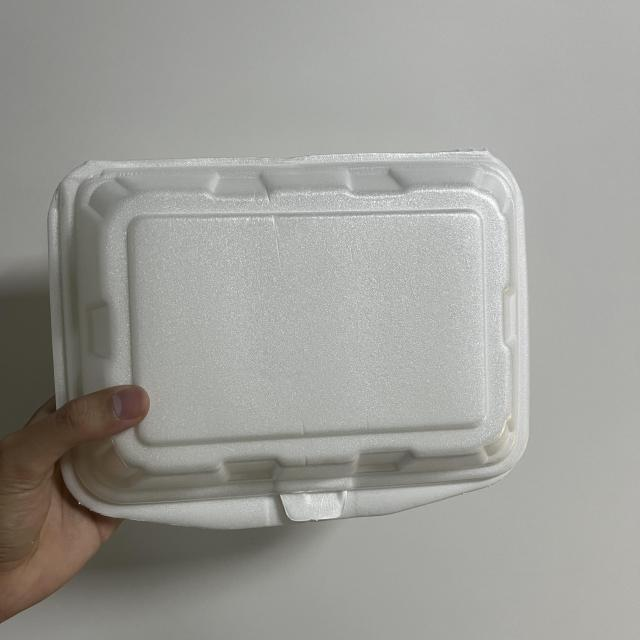styrofoam: (46, 148, 532, 531)
